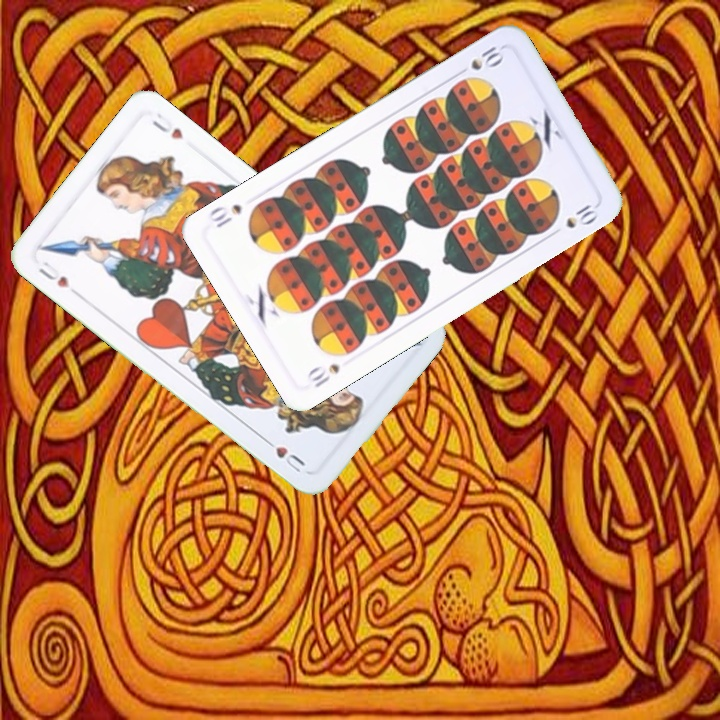HU: (34, 257, 81, 298)
S10: (452, 42, 507, 79), (302, 359, 343, 391)
